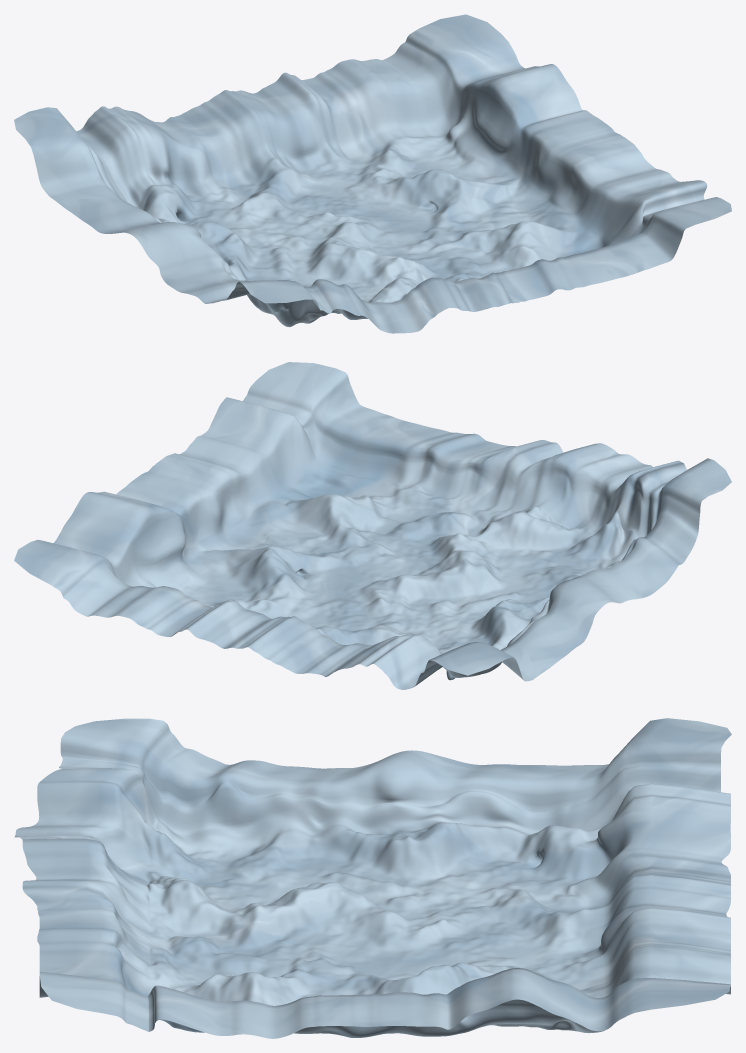
Rendered from laand.fbx.
3 renders of one model, top to bottom at view 1: azimuth 30°, elevation 25°; view 2: azimuth 150°, elevation 25°; view 3: azimuth 270°, elevation 25°, orthographic. The views are drawn at different scales.
Parts seen in each view (by area): view 1: Landscape.003; view 2: Landscape.003; view 3: Landscape.003.
Boxes of the visible parts, left/top/right/bottom form: Landscape.003: left=14, top=14, right=731, bottom=333; Landscape.003: left=14, top=362, right=731, bottom=689; Landscape.003: left=14, top=718, right=731, bottom=1038.
Size of the model in its own units: 2384 by 404 by 2495.
